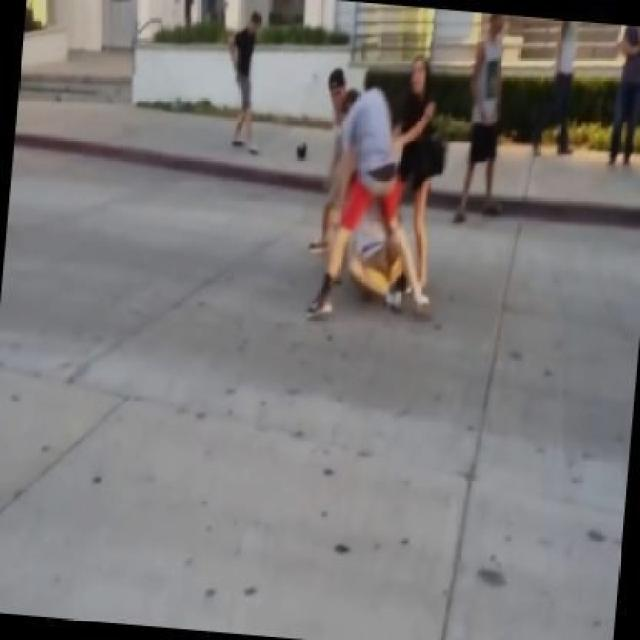fight: (285, 51, 423, 318)
non-fight: (456, 8, 513, 224), (397, 55, 442, 283), (594, 22, 638, 169)
